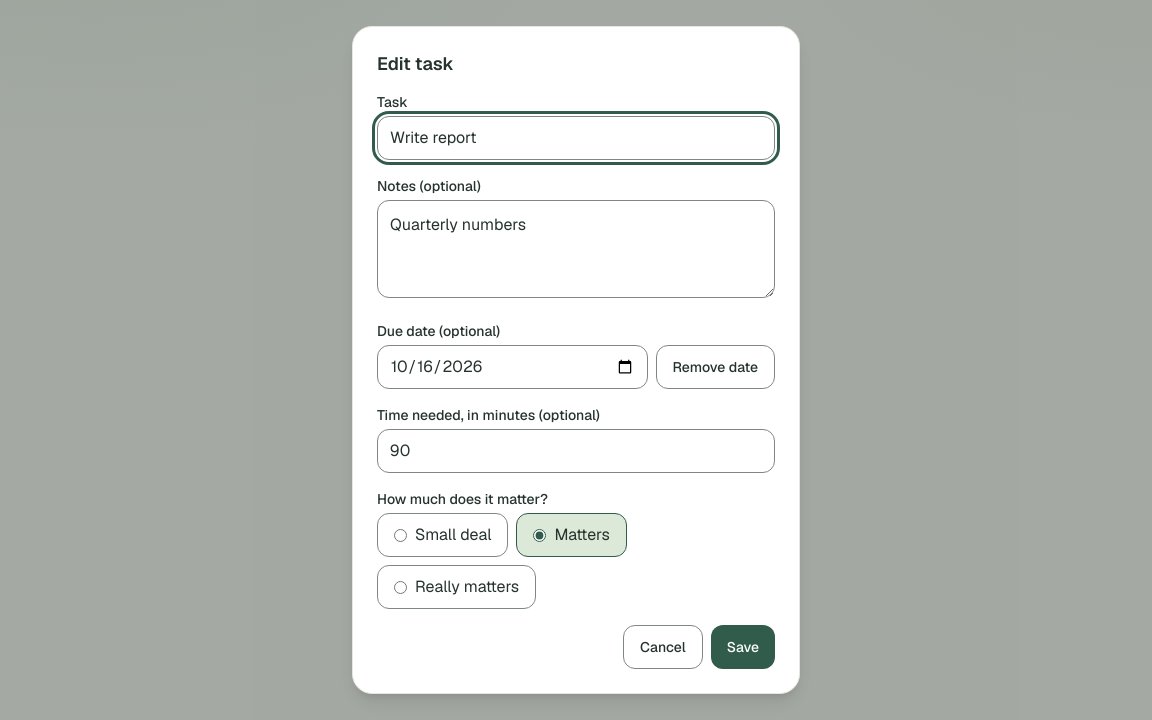
Scenario: EditTaskDialog › does not save an empty title, and says why
Clear the field labelled "Task" at (576, 138), box x1=377 y1=116 x2=775 y2=160
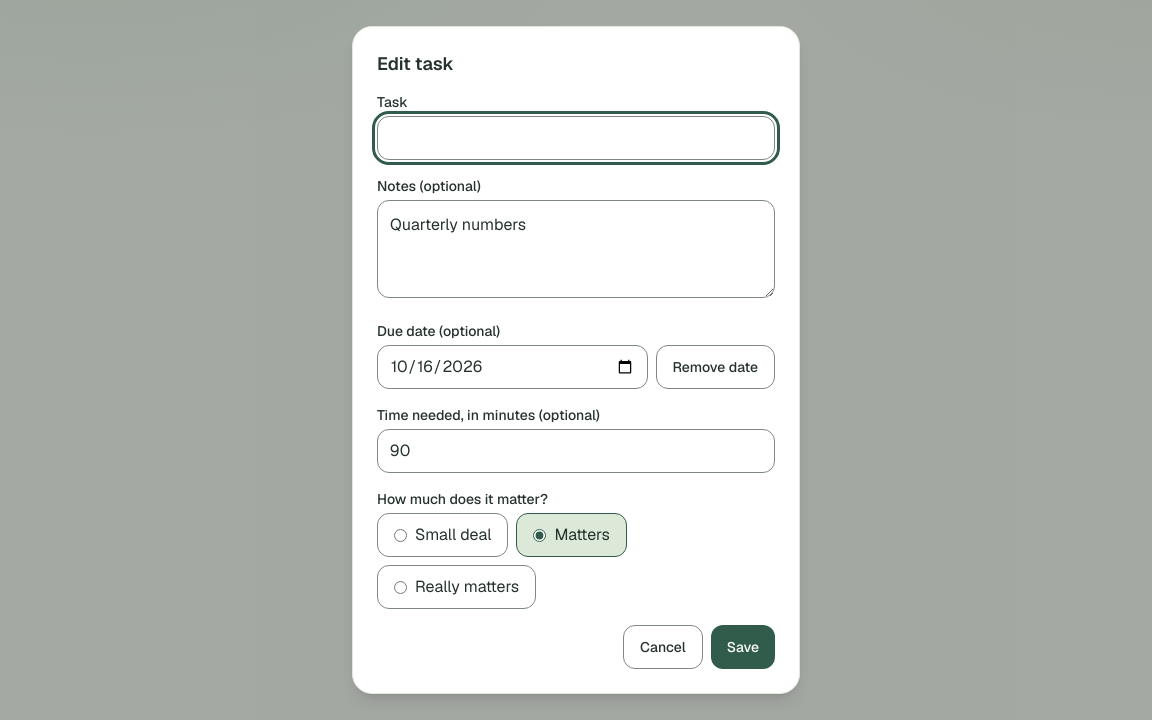
Click the button "Save" at (743, 647), box x1=711 y1=625 x2=775 y2=669
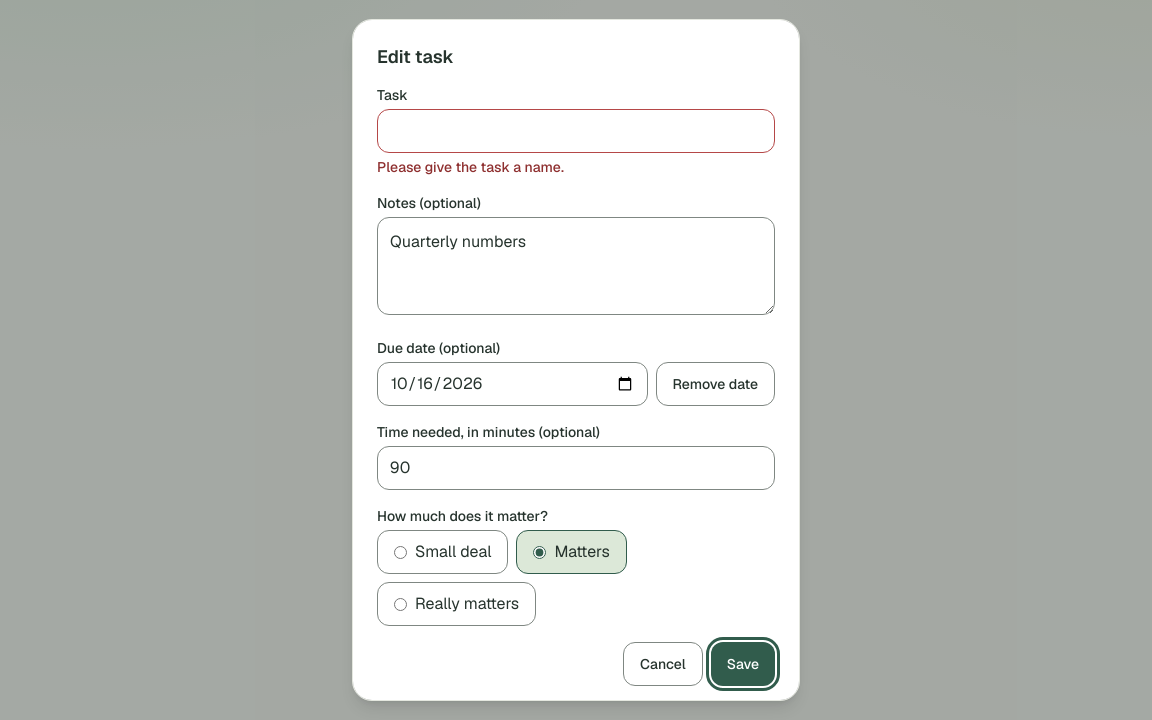
Expected: the message reads "Please give the task a name.", x1=377 y1=158 x2=564 y2=176
